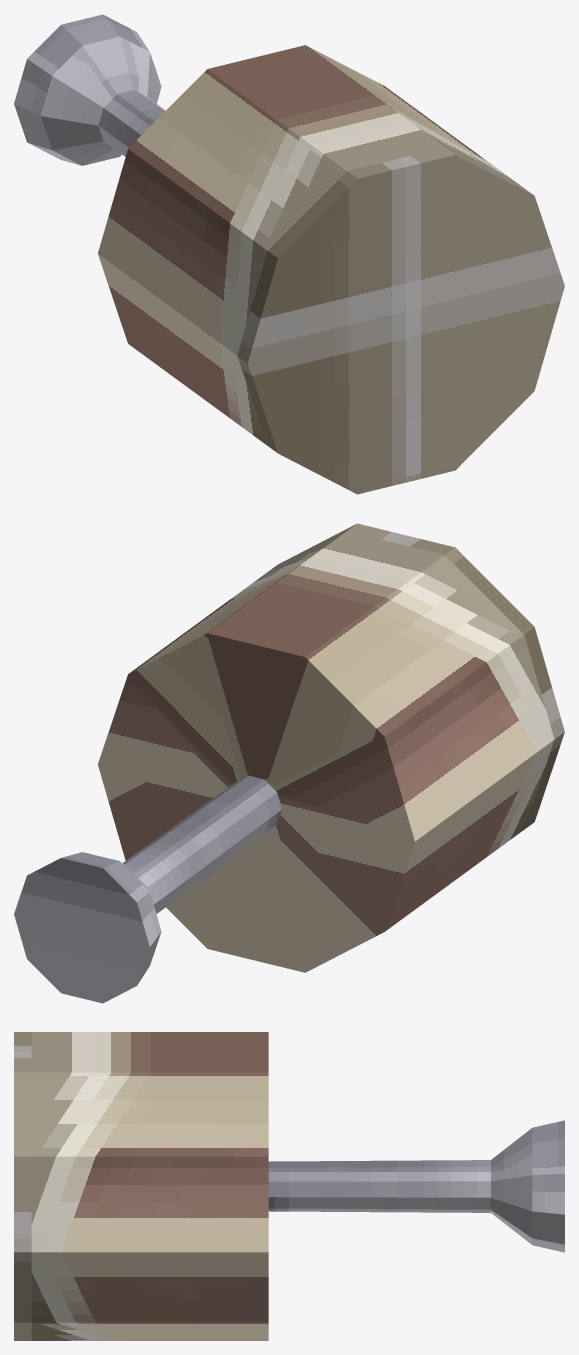
File: pz_lamp_8.obj
3 renders of one model, top to bottom at view 1: azimuth 30°, elevation 25°; view 2: azimuth 150°, elevation 25°; view 3: azimuth 270°, elevation 25°, orthographic. The views are drawn at different scales.
Size of the model in its own units: 0.21 by 0.1997 by 0.372.
1 material, 1 textured.
